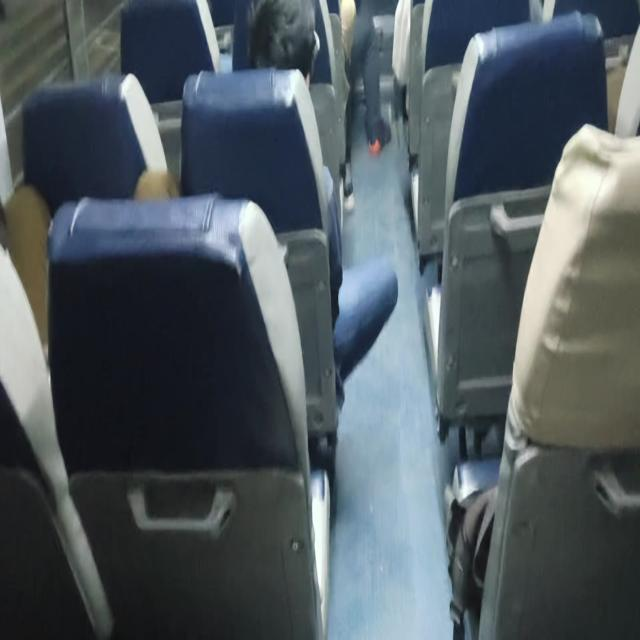person: (248, 0, 316, 84)
